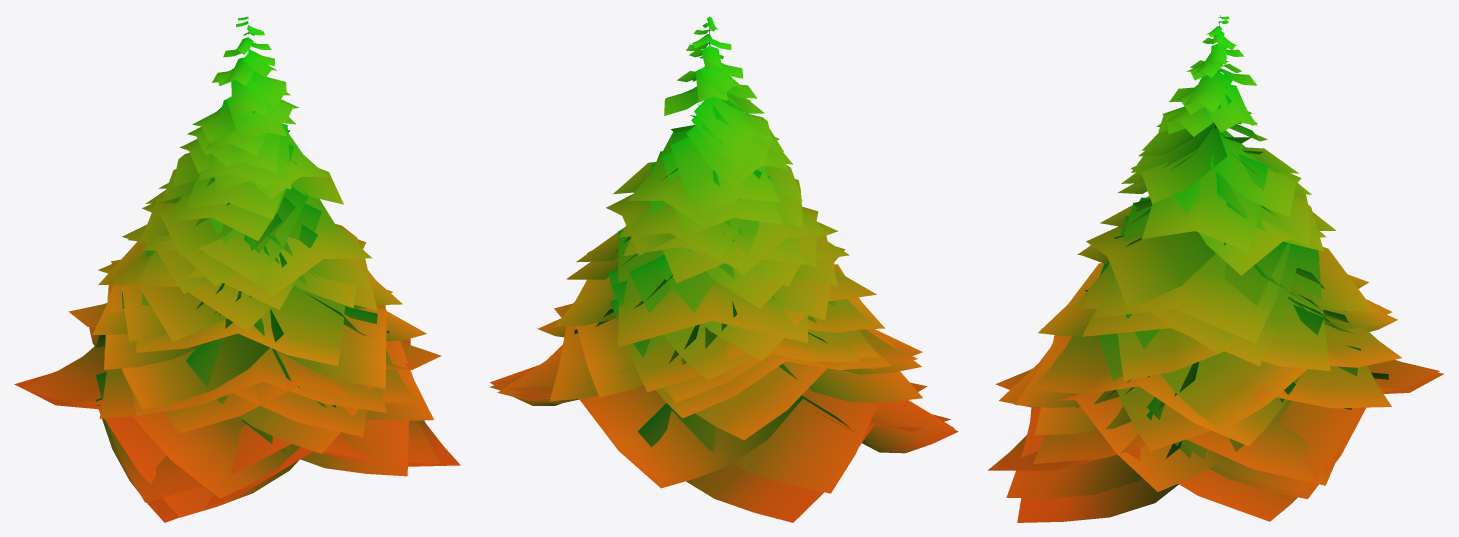
The model's file is tree 1.fbx.
The picture shows the model from 3 angles, left to right: view 1: azimuth 30°, elevation 25°; view 2: azimuth 150°, elevation 25°; view 3: azimuth 270°, elevation 25°; orthographic projection. The views are drawn at different scales.
Visible parts, largest first — view 1: Tree_LOD0; view 2: Tree_LOD0; view 3: Tree_LOD0.
Part boxes in pixels (bbox=[...]): Tree_LOD0: bbox=[14, 16, 460, 522]; Tree_LOD0: bbox=[489, 16, 958, 522]; Tree_LOD0: bbox=[988, 15, 1443, 522].
Size of what is drawn, in the model's own units: 1534 by 1677 by 1552.
